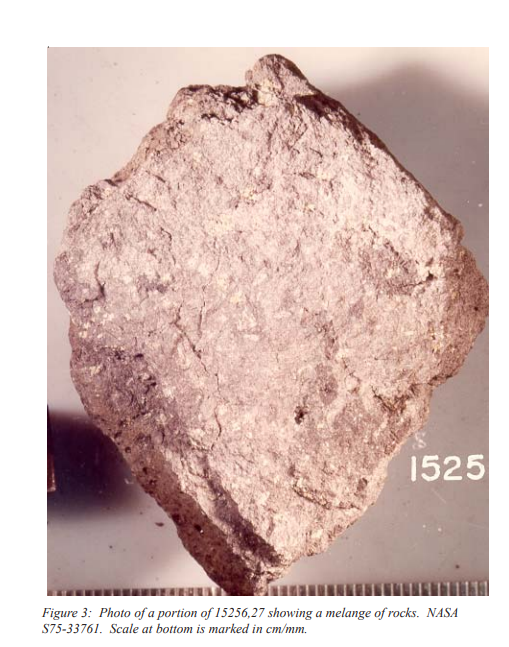Breccia: (52, 50, 484, 593), (192, 196, 380, 510)
